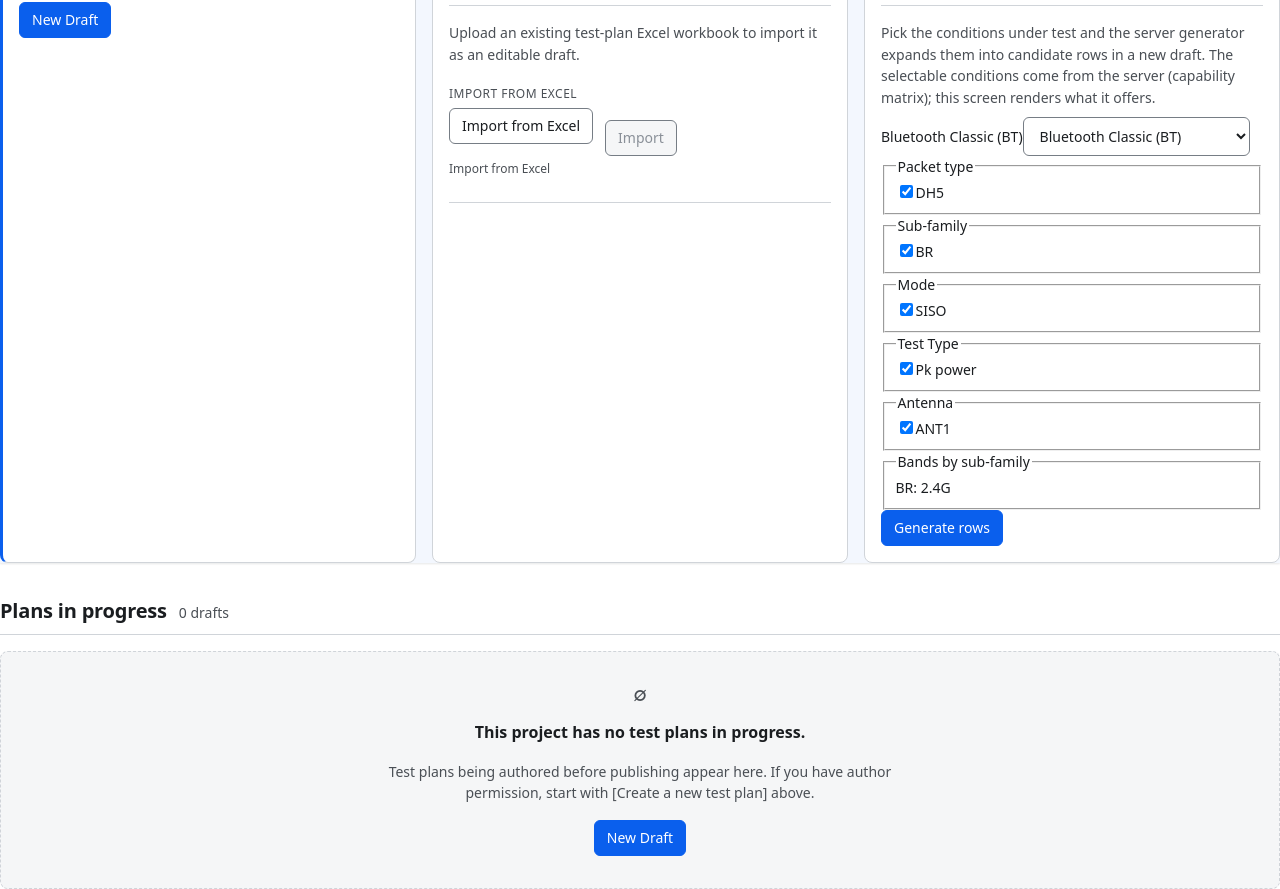
current generation API cutover › surfaces catalogue and preview failures instead of falling back to old draft writes
(page scrolled)
Expected: the form with test id "test-plans-generator-form" is shown, 881,117 -> 1263,546
Click the button with test id "test-plans-generator-submit": click(942, 528) 881,510 -> 1003,546
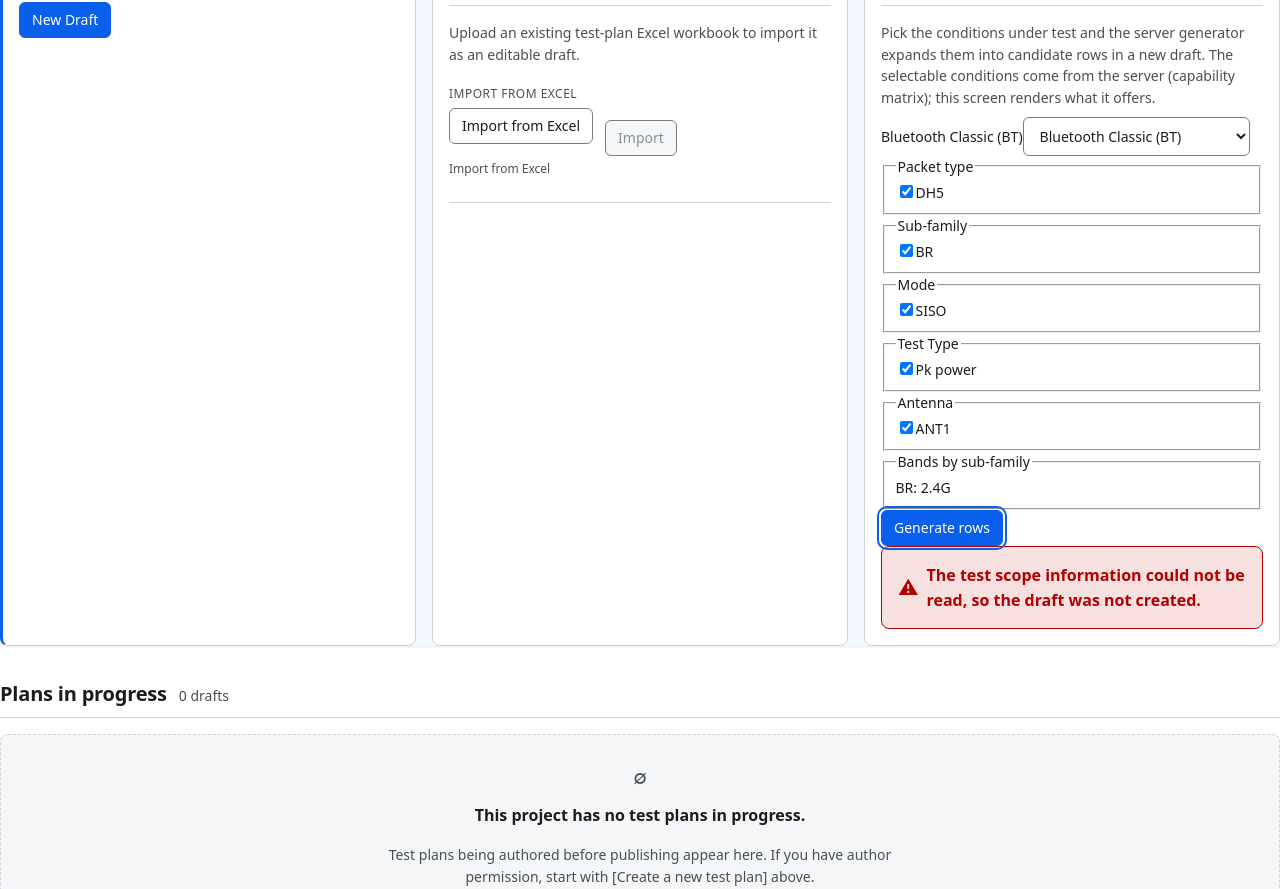
Expected: the message "The test scope information could not be read, so the draft was not created." is shown, 881,546 -> 1263,629
